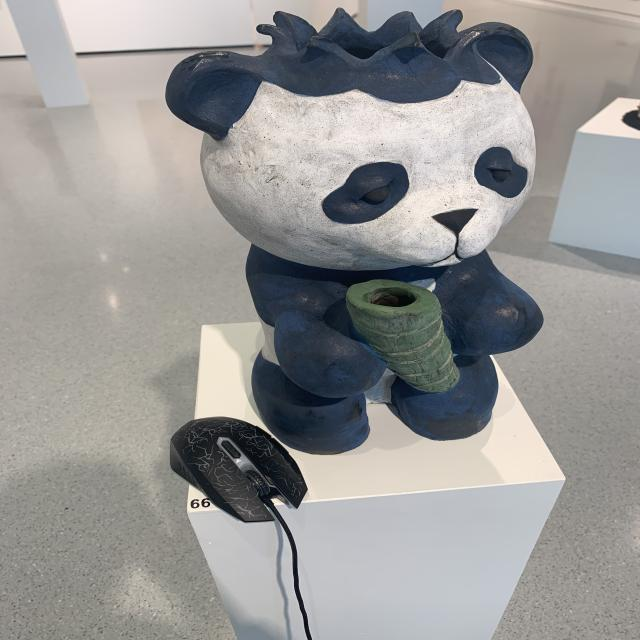Mouse: (158, 418, 318, 526)
